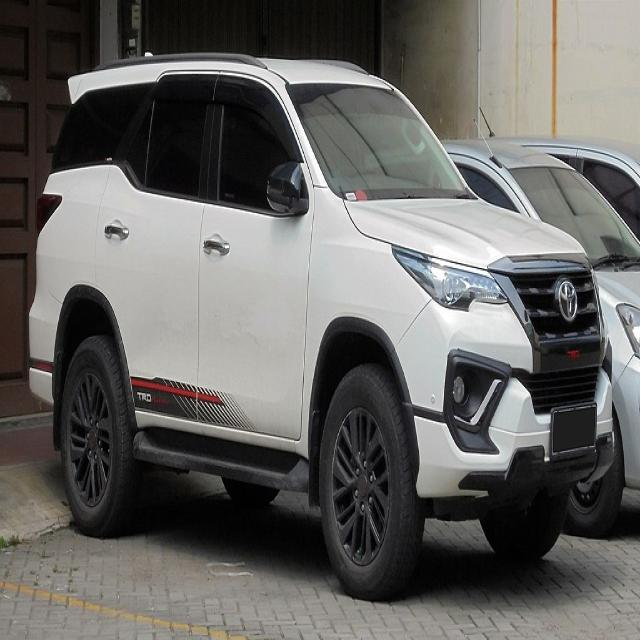light_vehicle: (444, 134, 640, 536)
